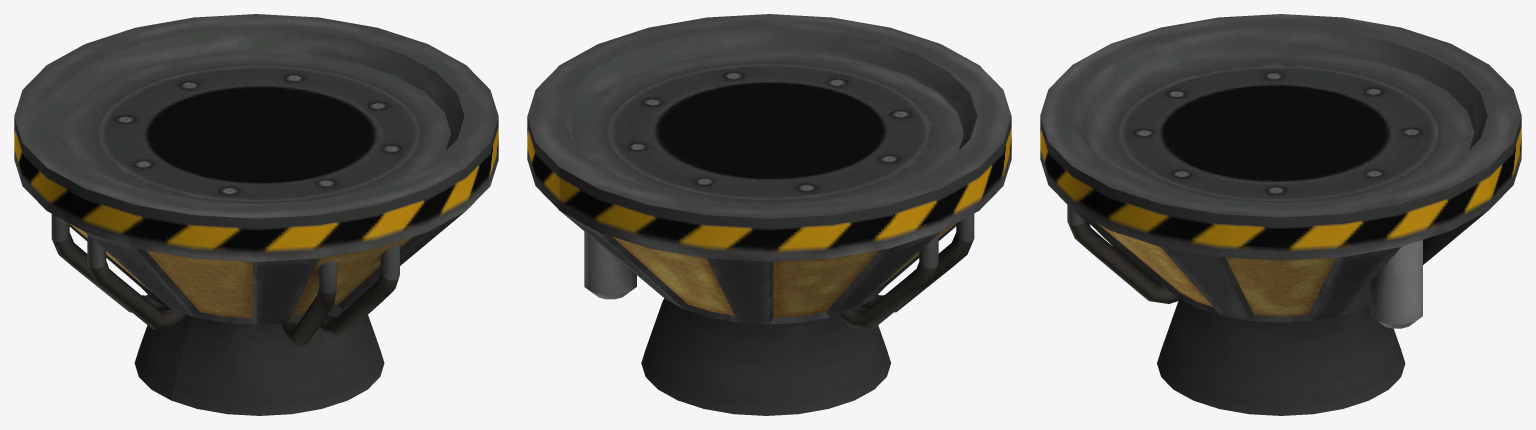
Rendered from kerbal_space_program_-_lv-909_terrier.glb.
The picture shows the model from 3 angles, left to right: view 1: azimuth 30°, elevation 25°; view 2: azimuth 150°, elevation 25°; view 3: azimuth 270°, elevation 25°; orthographic projection.
Parts seen in each view (by area): view 1: lv-909.mdl.cleaner.materialmerger.gles; view 2: lv-909.mdl.cleaner.materialmerger.gles; view 3: lv-909.mdl.cleaner.materialmerger.gles.
Part boxes in pixels (x1,y1,x2,y2): lv-909.mdl.cleaner.materialmerger.gles: [14, 14, 498, 415]; lv-909.mdl.cleaner.materialmerger.gles: [527, 14, 1011, 415]; lv-909.mdl.cleaner.materialmerger.gles: [1040, 14, 1521, 415].
Bounding box in the file's own units: 0.0254 × 0.0143 × 0.0254.
Materials: 1 (1 with a texture image).
